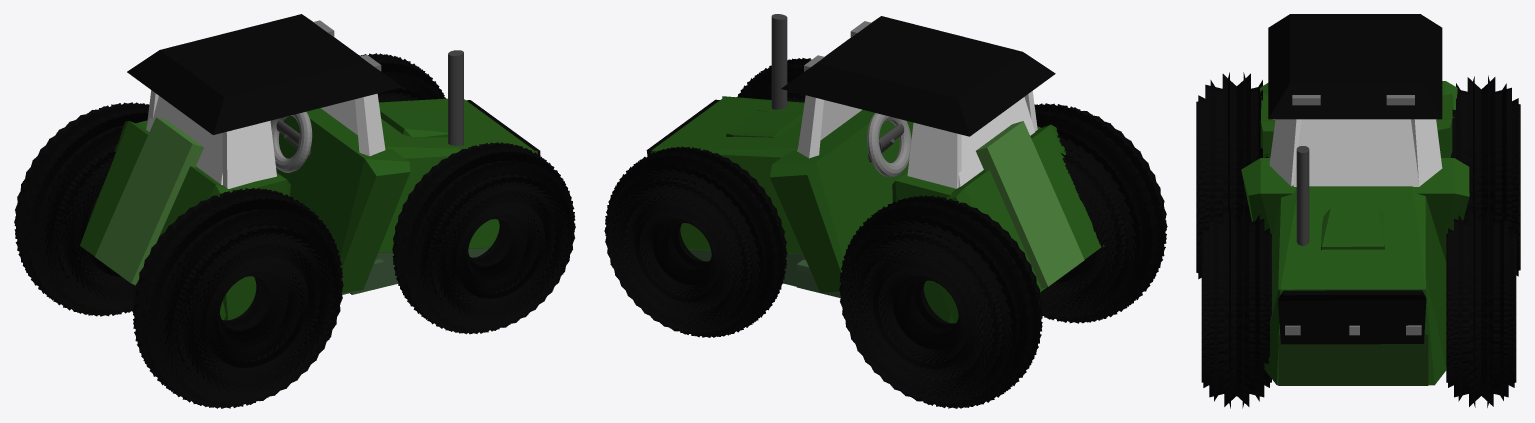
The model's file is trator_teste.fbx.
3 renders of one model, left to right at view 1: azimuth 30°, elevation 25°; view 2: azimuth 150°, elevation 25°; view 3: azimuth 270°, elevation 25°, orthographic.
Visible parts, largest first — view 1: Torus.013, Torus.012, Cube.080, Torus.014, Cube.081, Cube.086, Cube.082, Cube.077, Cube.093, Torus.011, Cube.092, Cube.076 (+6 smaller); view 2: Torus.014, Torus.011, Cube.080, Torus.013, Cube.081, Cube.086, Cube.082, Cube.077, Cube.091, Cube.092, Cube.078, Torus.010 (+7 smaller); view 3: Cube.080, Cube.082, Torus.011, Torus.012, Torus.014, Torus.013, Cube.097, Cube.083, Cube.098, Cube.081, Cube.075, Cube.090 (+7 smaller).
Part boxes in pixels (x1,y1,x2,y2): Torus.013: (132, 188, 343, 408); Torus.012: (392, 142, 575, 334); Cube.080: (127, 14, 402, 134); Torus.014: (14, 102, 149, 316); Cube.081: (276, 108, 410, 293); Cube.086: (95, 117, 203, 284); Cube.082: (378, 98, 537, 252); Cube.077: (80, 121, 229, 320); Cube.093: (222, 120, 276, 188); Torus.011: (359, 53, 445, 102); Cube.092: (146, 96, 222, 185); Cube.076: (223, 173, 290, 320); Torus.014: (839, 195, 1043, 408); Torus.011: (604, 146, 787, 337); Cube.080: (781, 16, 1055, 136); Torus.013: (1034, 103, 1167, 323); Cube.081: (770, 109, 913, 292); Cube.086: (976, 121, 1084, 288); Cube.082: (651, 96, 804, 254); Cube.077: (937, 124, 1104, 323); Cube.091: (907, 122, 961, 188); Cube.092: (958, 97, 1034, 187); Cube.078: (892, 172, 964, 323); Torus.010: (867, 113, 911, 177); Cube.080: (1268, 14, 1442, 119); Cube.082: (1264, 186, 1446, 385); Torus.011: (1446, 208, 1516, 407); Torus.012: (1201, 207, 1271, 408); Torus.014: (1451, 75, 1520, 276); Torus.013: (1196, 72, 1268, 279); Cube.097: (1278, 290, 1426, 344); Cube.083: (1293, 119, 1419, 186); Cube.098: (1278, 333, 1428, 385); Cube.081: (1241, 158, 1469, 261); Cube.075: (1321, 207, 1384, 249); Cube.090: (1269, 119, 1302, 186).
Size of the model in its own units: 2104 by 1321 by 1356.
